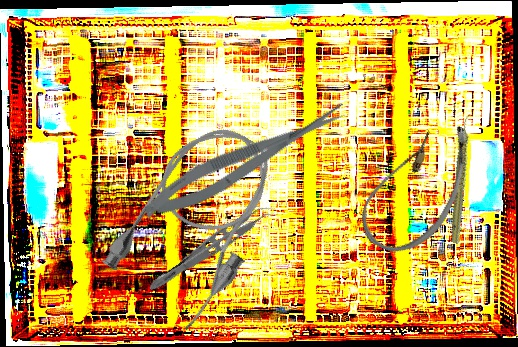Cannula: (94, 106, 301, 338), (351, 104, 484, 267)
Handpiece: (424, 112, 501, 245)
Micro Scissor: (136, 96, 355, 228)
Tissue Forceps: (145, 195, 280, 303)
